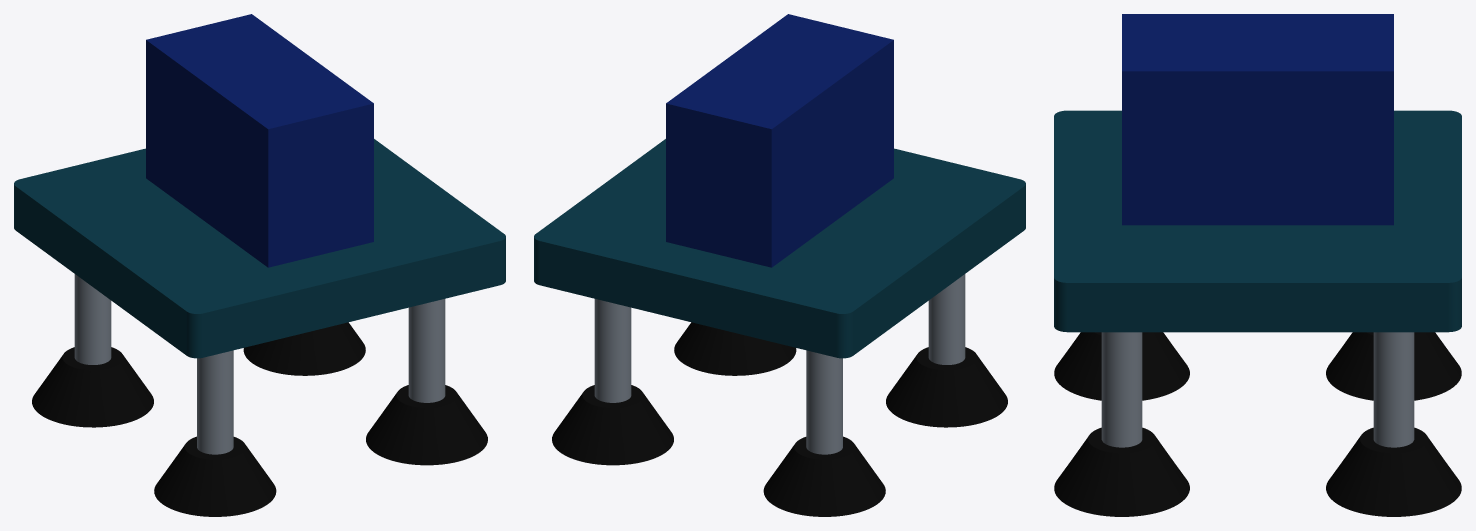
The model's file is vacuum_pads.glb.
3 renders of one model, left to right at view 1: azimuth 30°, elevation 25°; view 2: azimuth 150°, elevation 25°; view 3: azimuth 270°, elevation 25°, orthographic. The views are drawn at different scales.
Parts seen in each view (by area): view 1: vacuum_pads; view 2: vacuum_pads; view 3: vacuum_pads.
Boxes of the visible parts, x1,y1,x2,y2 form: vacuum_pads: [14, 14, 505, 516]; vacuum_pads: [534, 14, 1025, 516]; vacuum_pads: [1054, 14, 1461, 516].
Size of the model in its own units: 0.06 by 0.063 by 0.06.
